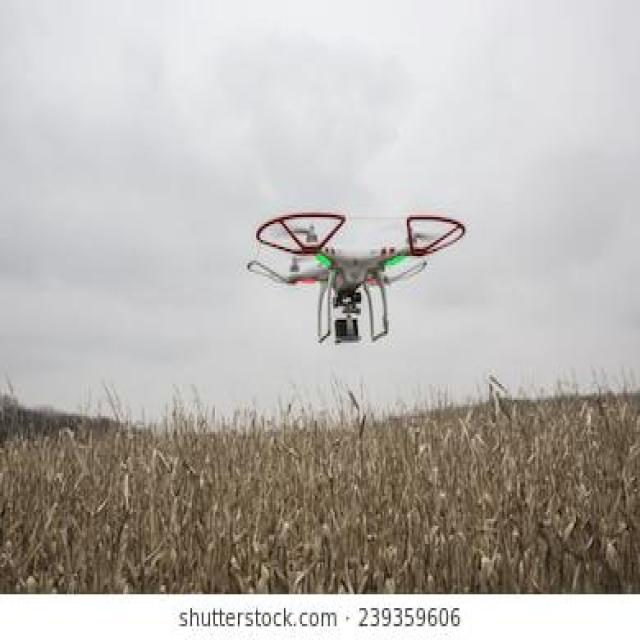drone: (230, 175, 471, 358)
